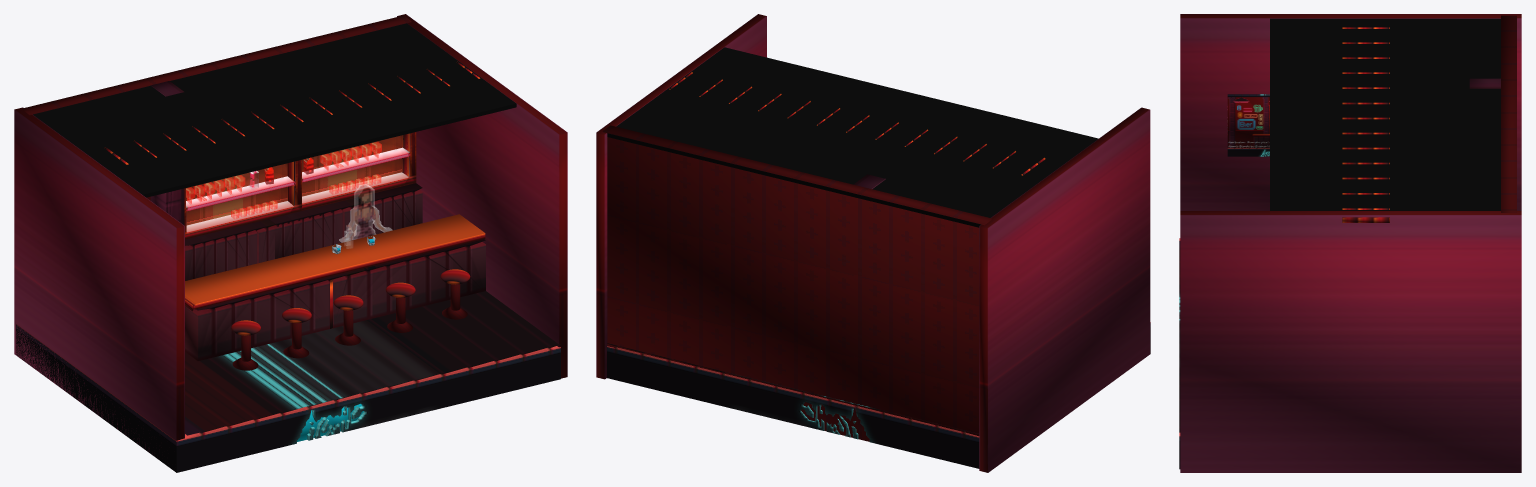
Rendered from atomic2.glb.
3 views of the same model, side by side, from view 1: azimuth 30°, elevation 25°; view 2: azimuth 150°, elevation 25°; view 3: azimuth 270°, elevation 25° (orthographic). The views are drawn at different scales.
Visible parts, largest first — view 1: Object_23, Object_19, Object_2, Object_3, Object_18, Object_21, Object_14, Object_6, Object_16, Object_22, Object_7, Object_17; view 2: Object_21, Object_23, Object_19, Object_2; view 3: Object_23, Object_19, Object_21, Object_5, Object_2.
Part boxes in pixels (<box>): Object_23: <box>14,14,567,463</box>; Object_19: <box>33,23,516,335</box>; Object_2: <box>16,291,560,472</box>; Object_3: <box>185,183,485,360</box>; Object_18: <box>184,132,416,239</box>; Object_21: <box>22,15,467,370</box>; Object_14: <box>186,135,402,225</box>; Object_6: <box>186,141,381,204</box>; Object_16: <box>339,184,392,242</box>; Object_22: <box>150,81,184,224</box>; Object_7: <box>231,174,381,218</box>; Object_17: <box>297,403,363,441</box>; Object_21: <box>602,125,991,441</box>; Object_23: <box>596,14,1150,472</box>; Object_19: <box>607,47,1098,227</box>; Object_2: <box>607,322,1150,468</box>; Object_23: <box>1180,14,1521,472</box>; Object_19: <box>1270,18,1500,222</box>; Object_21: <box>1501,15,1516,212</box>; Object_5: <box>1227,94,1269,156</box>; Object_2: <box>1179,238,1180,469</box>.
Bounding box in the file's own units: 102 × 61.06 × 73.21.
23 materials, 21 textured.
